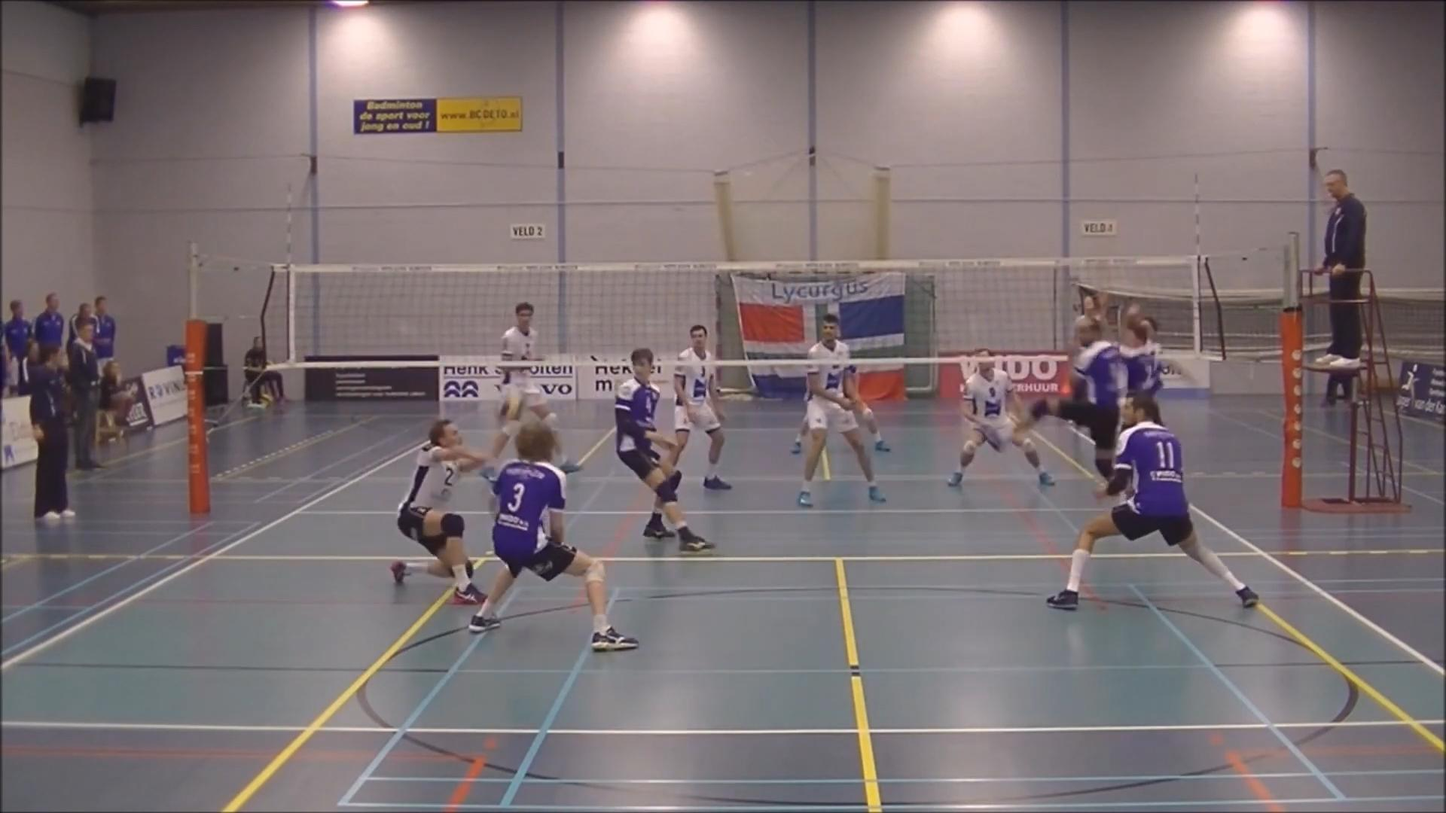difesa: (470, 416, 641, 653), (379, 414, 487, 602)
